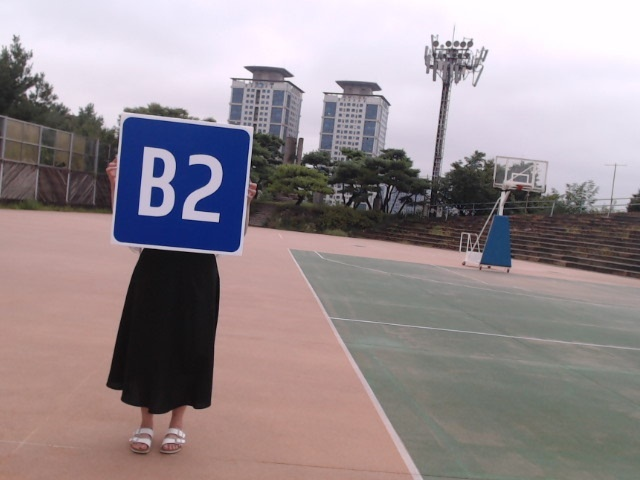delivery_b2: (111, 116, 252, 254)
